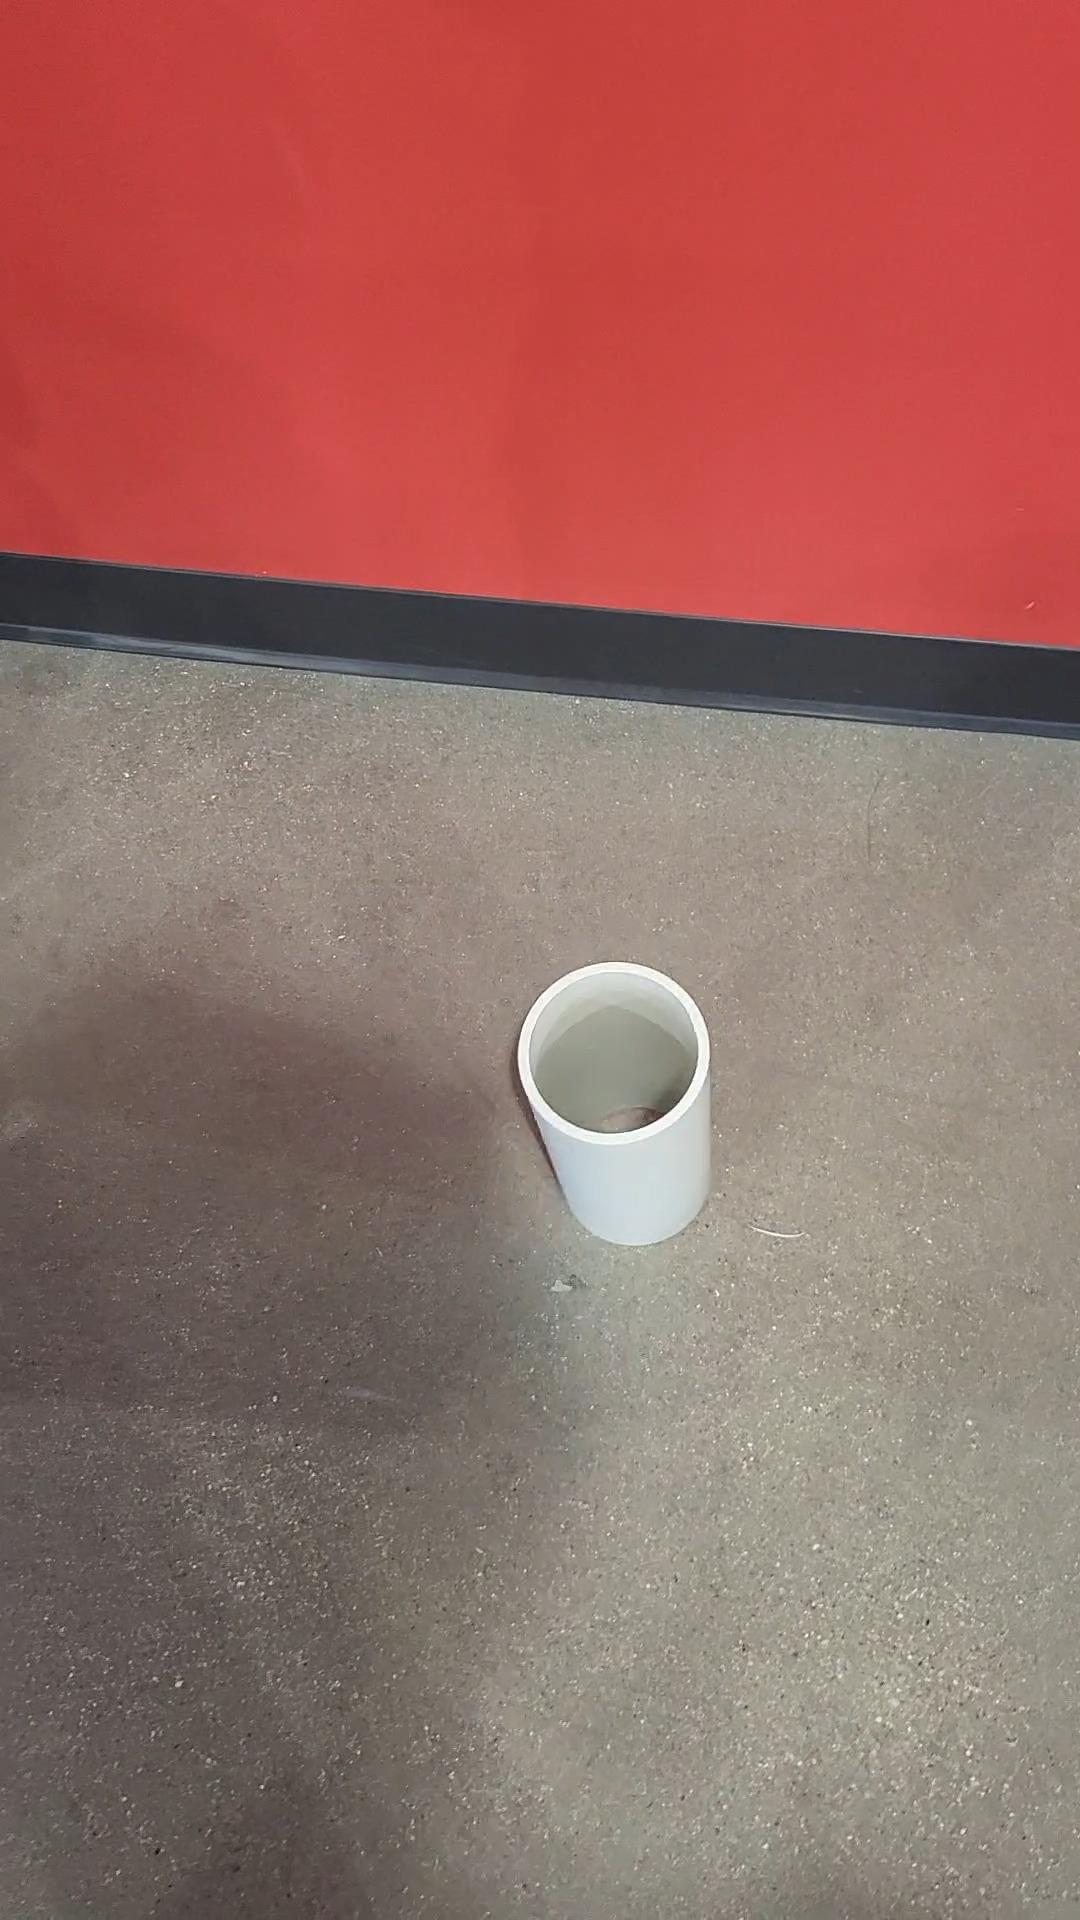coral: (516, 960, 719, 1247)
